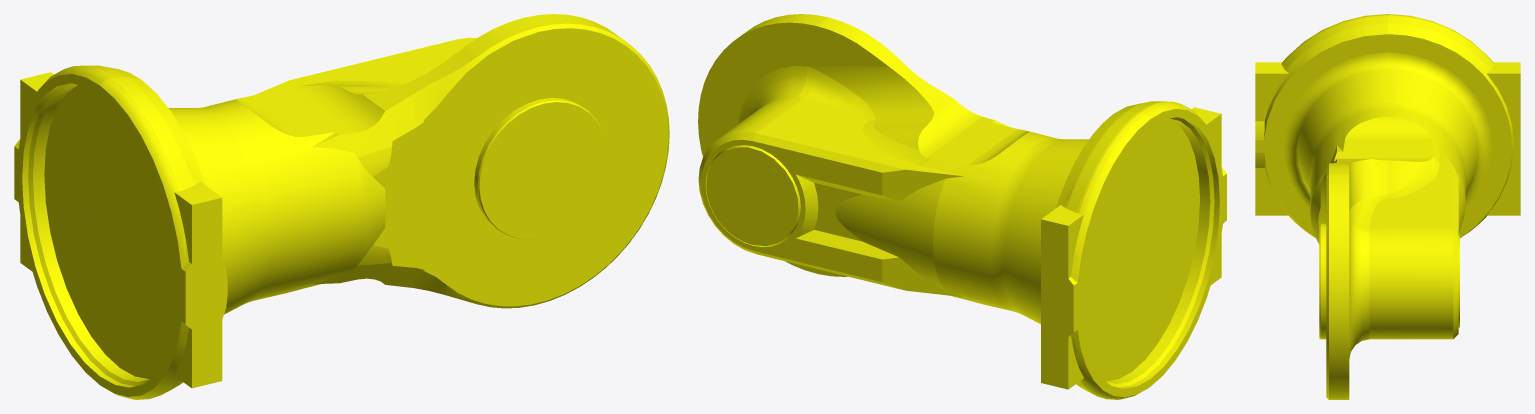
The picture shows the model from 3 angles, left to right: view 1: azimuth 30°, elevation 25°; view 2: azimuth 150°, elevation 25°; view 3: azimuth 270°, elevation 25°; orthographic projection. The views are drawn at different scales.
Parts seen in each view (by area): view 1: Mesh_0; view 2: Mesh_0; view 3: Mesh_0.
Part boxes in pixels (box(x1,y1,x2,y2)): Mesh_0: box(14, 14, 669, 399); Mesh_0: box(698, 14, 1226, 399); Mesh_0: box(1255, 14, 1520, 399).
Size of the model in its own units: 0.3489 by 0.195 by 0.1942.
